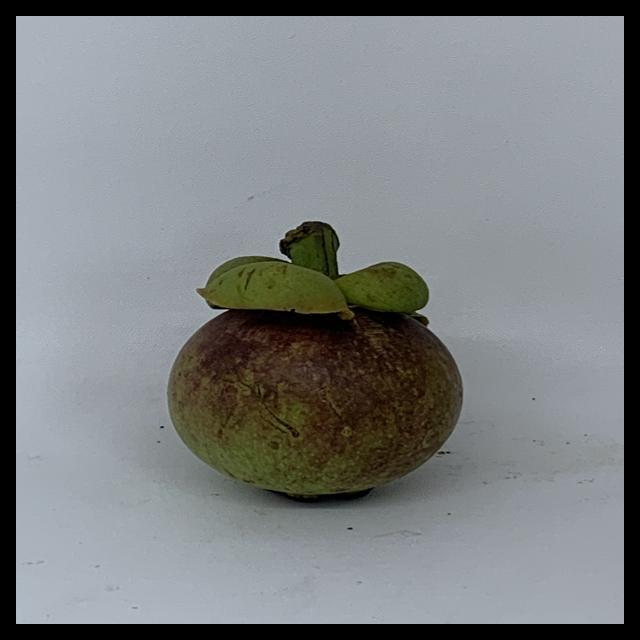mangosteen: (151, 214, 504, 511)
